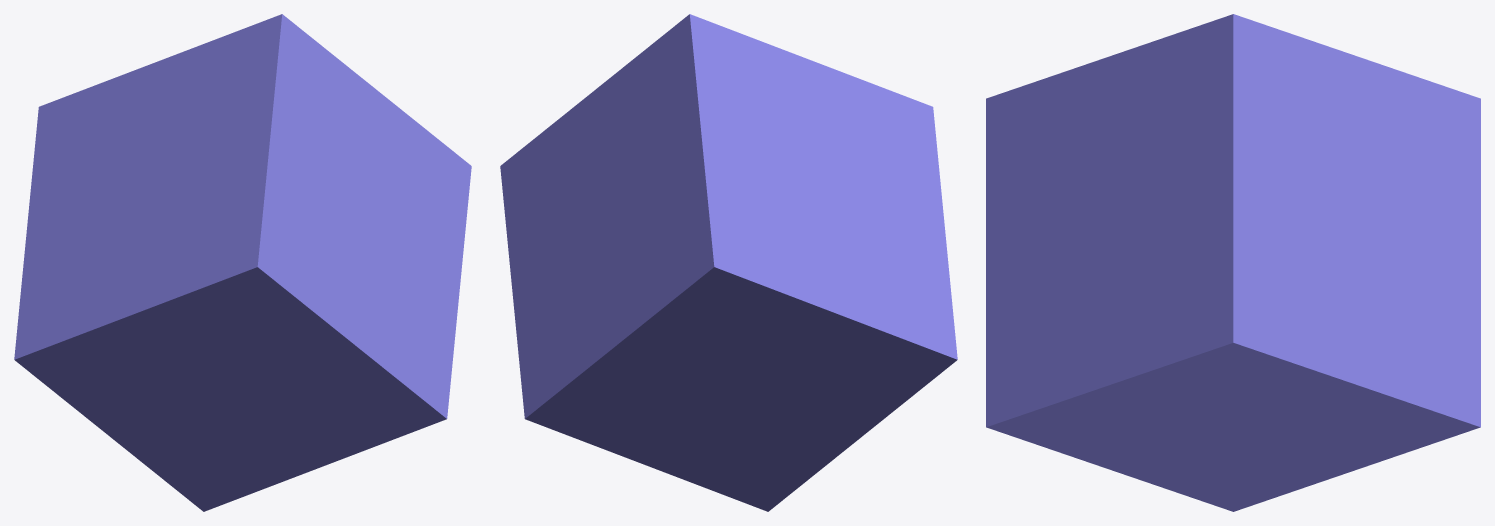
File: unit_cube1.glb
3 views of the same model, side by side, from view 1: azimuth 30°, elevation 25°; view 2: azimuth 150°, elevation 25°; view 3: azimuth 270°, elevation 25° (orthographic). The views are drawn at different scales.
Parts seen in each view (by area): view 1: Cube; view 2: Cube; view 3: Cube.
Part boxes in pixels (x1,y1,x2,y2): Cube: [14, 14, 471, 511]; Cube: [500, 14, 957, 511]; Cube: [986, 14, 1480, 511].
Bounding box in the file's own units: 1.71 × 1.71 × 1.41.
